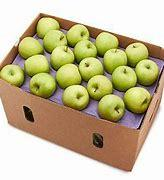apple: (94, 94, 125, 121), (59, 62, 88, 90), (104, 48, 132, 75), (62, 86, 94, 109), (21, 56, 55, 77), (137, 57, 159, 88), (125, 87, 152, 111), (126, 41, 152, 65), (14, 39, 45, 58), (95, 25, 120, 48), (115, 66, 137, 92), (32, 73, 58, 95), (42, 29, 66, 52), (74, 40, 101, 60), (3, 65, 30, 84), (67, 25, 91, 44)
